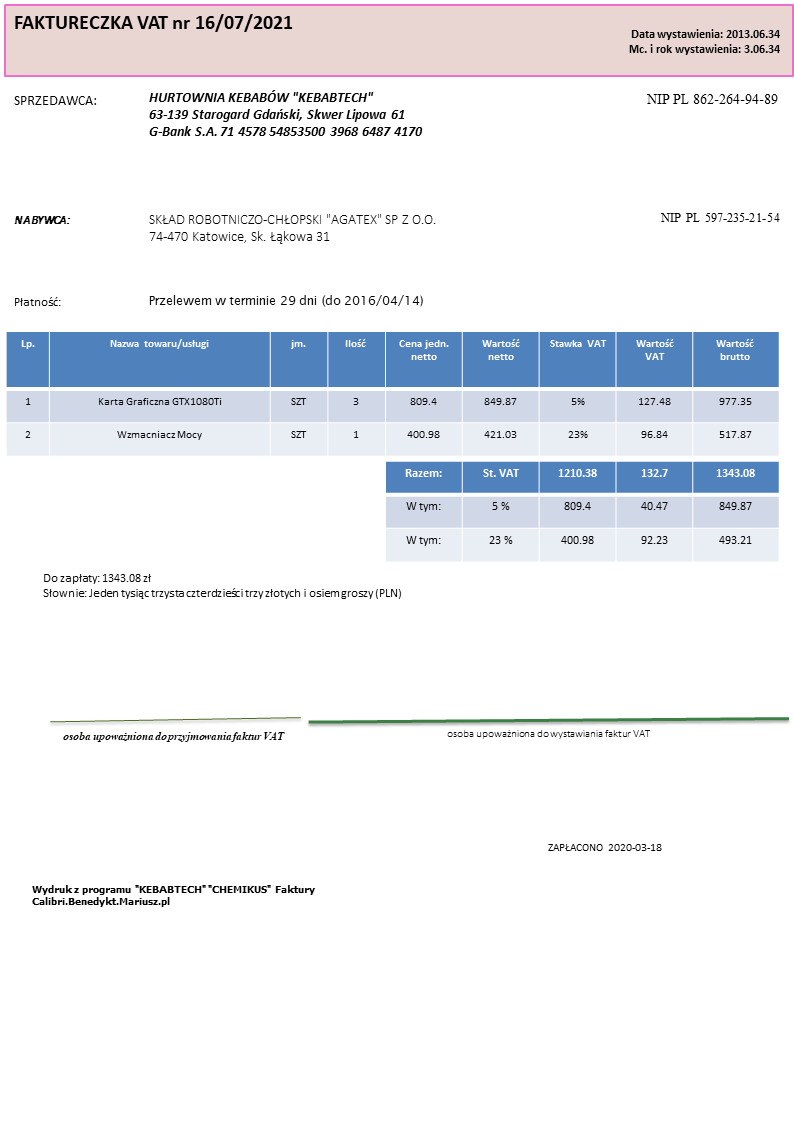Table: (4, 330, 779, 458), (384, 460, 779, 564)
TextBox: (146, 88, 425, 142), (39, 569, 404, 602), (144, 210, 438, 245), (29, 881, 318, 909), (13, 10, 294, 36), (626, 24, 783, 58), (146, 293, 425, 310), (62, 728, 287, 746), (446, 726, 651, 743), (644, 88, 779, 109), (658, 207, 782, 228), (544, 839, 664, 856), (11, 90, 99, 111), (12, 211, 69, 228), (11, 293, 61, 310)
